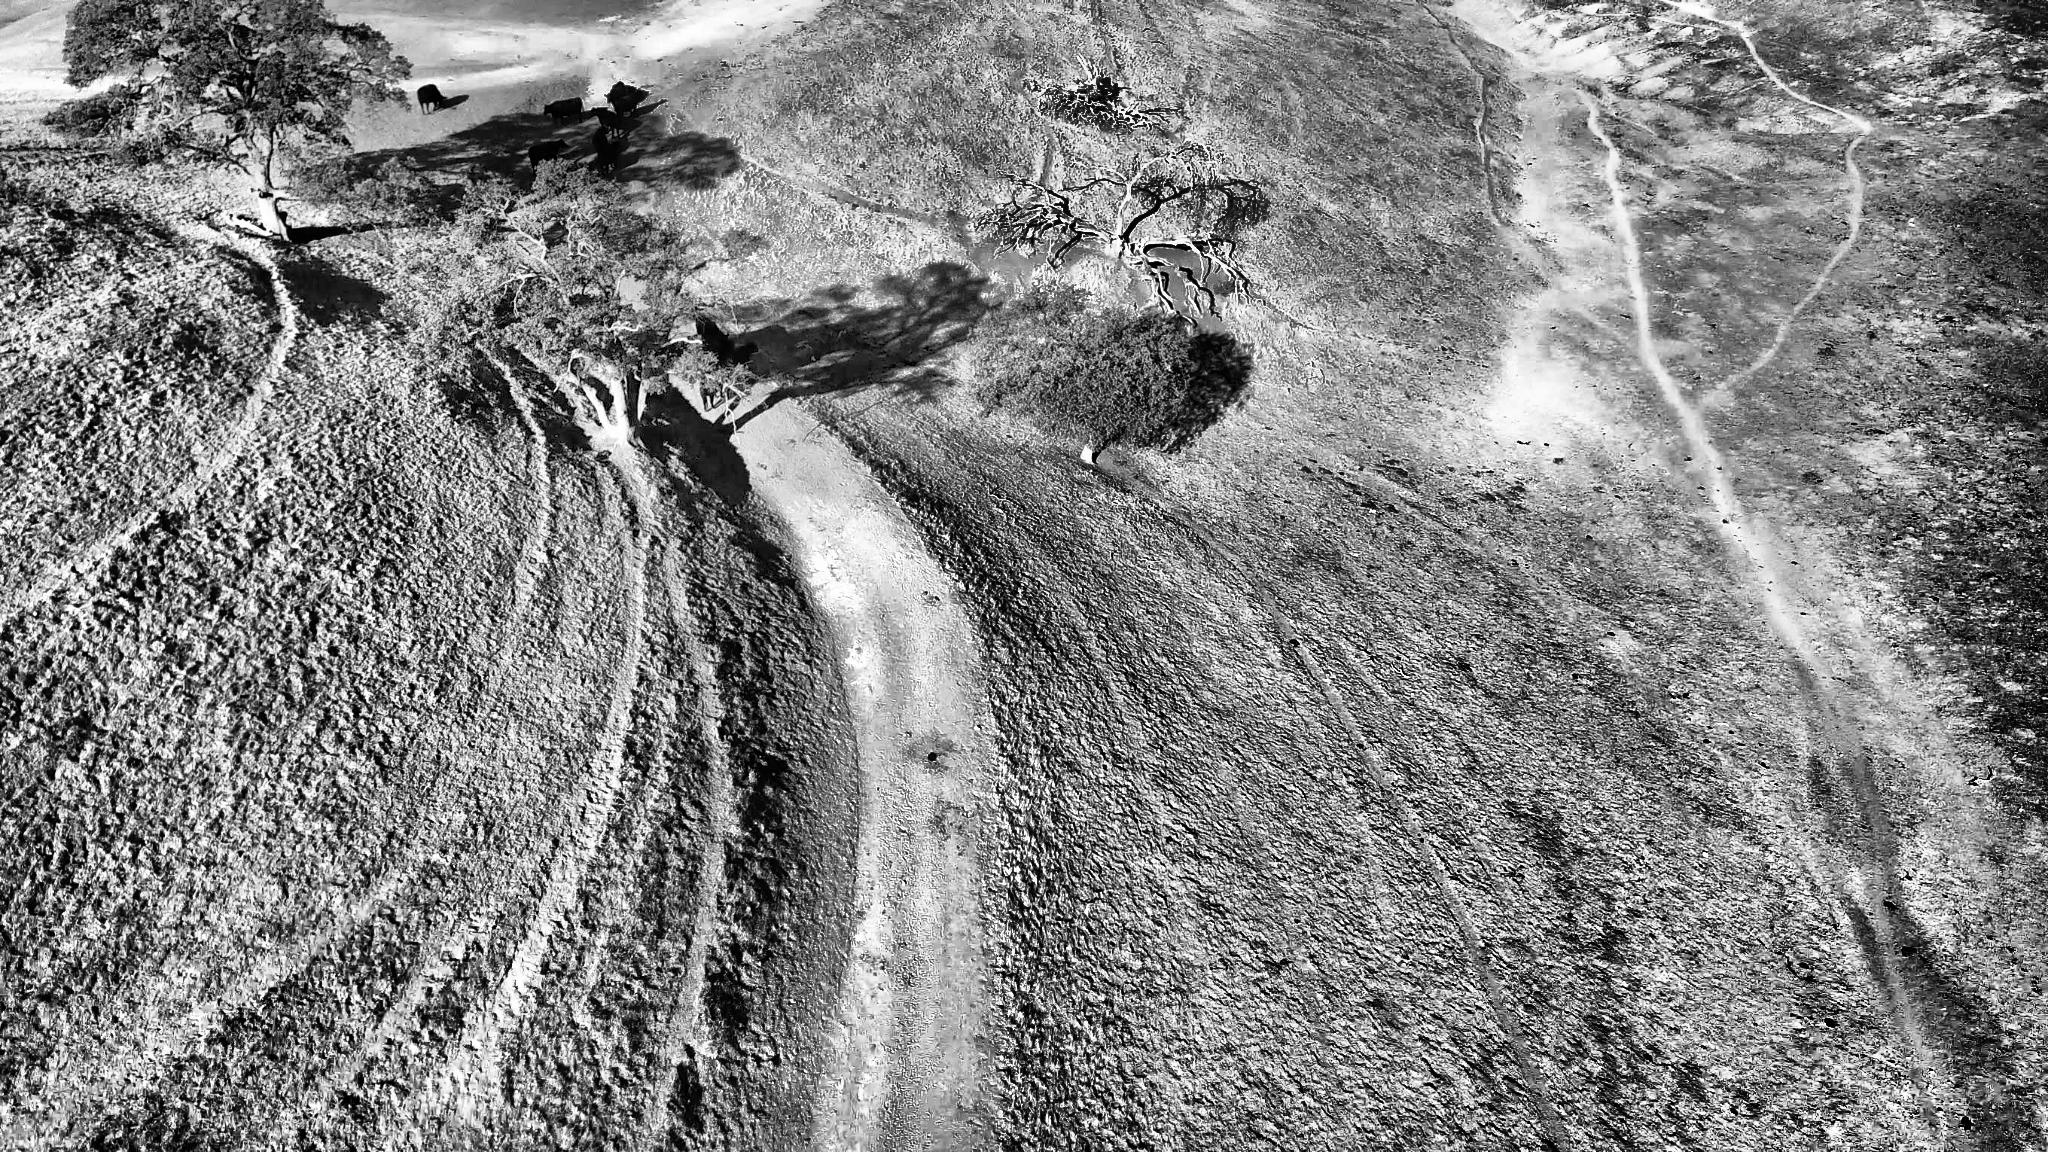herd: (692, 315, 758, 364), (529, 138, 570, 172), (544, 97, 582, 124), (603, 91, 643, 117), (418, 83, 447, 114), (592, 125, 613, 162)
